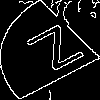Z: (24, 25, 96, 79)
